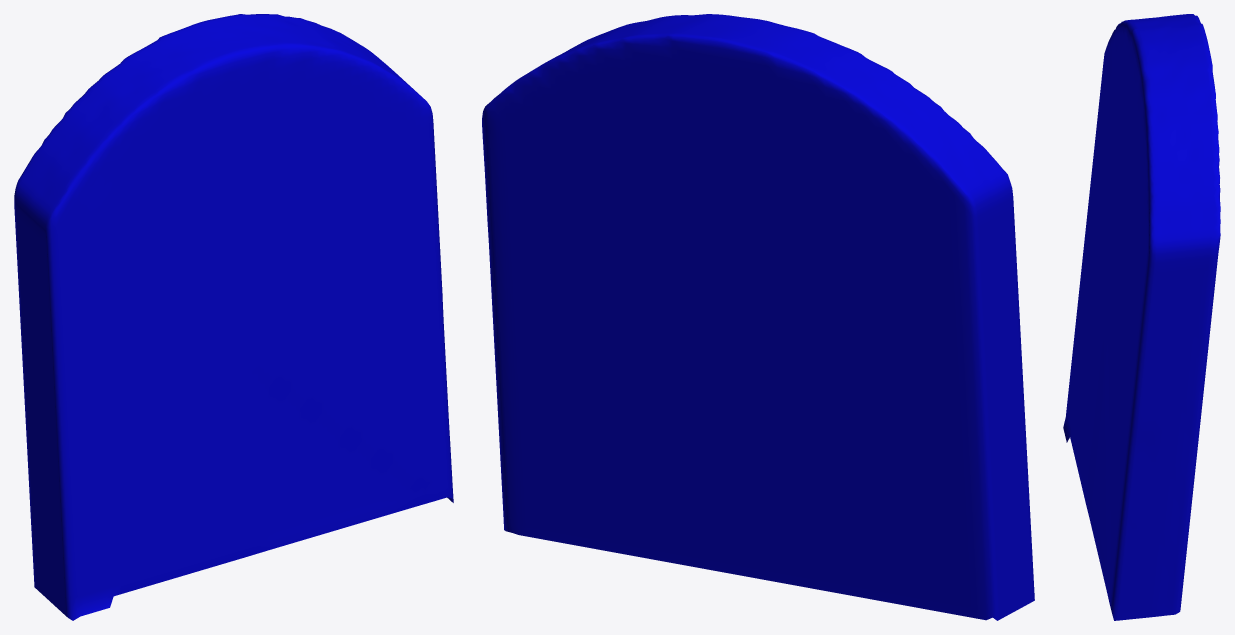
The picture shows the model from 3 angles, left to right: view 1: azimuth 30°, elevation 25°; view 2: azimuth 150°, elevation 25°; view 3: azimuth 270°, elevation 25°; orthographic projection. The views are drawn at different scales.
Bounding box in the file's own units: 0.748 × 0.8648 × 0.2554.
